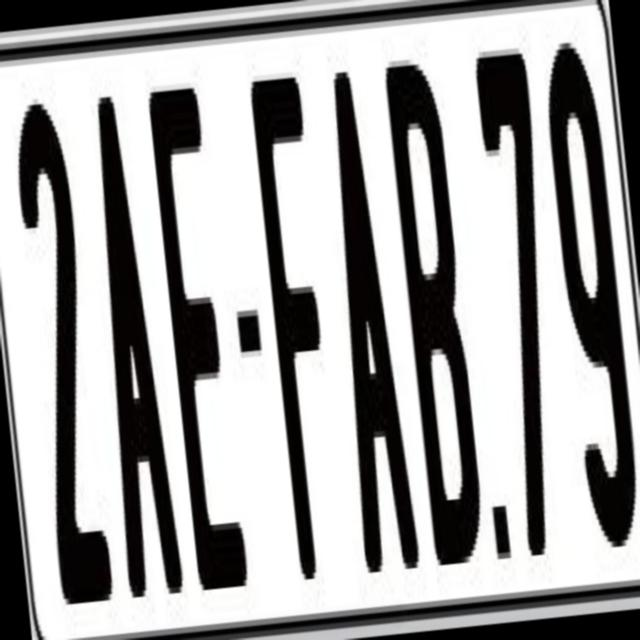2: (7, 96, 112, 616)
7: (473, 46, 582, 579)
9: (536, 35, 640, 561)
A: (313, 62, 432, 602), (75, 76, 189, 592)
B: (382, 50, 493, 577)
E: (144, 75, 250, 608)
F: (248, 70, 354, 580)
